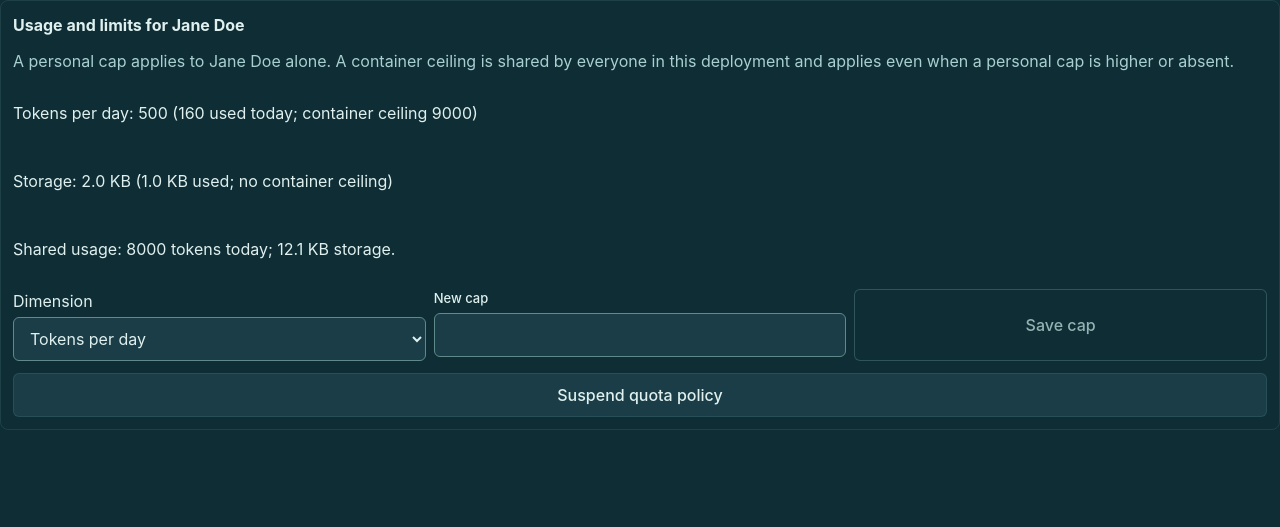
QuotaEditor › exposes suspension and a restore action rather than reporting no cap
Expected: the text "Tokens per day: 500 (160 used today; container ceiling 9000)" is shown, [13,103,478,123]
Click the button "Suspend quota policy". click: (640, 395)
box: [13,373,1267,417]
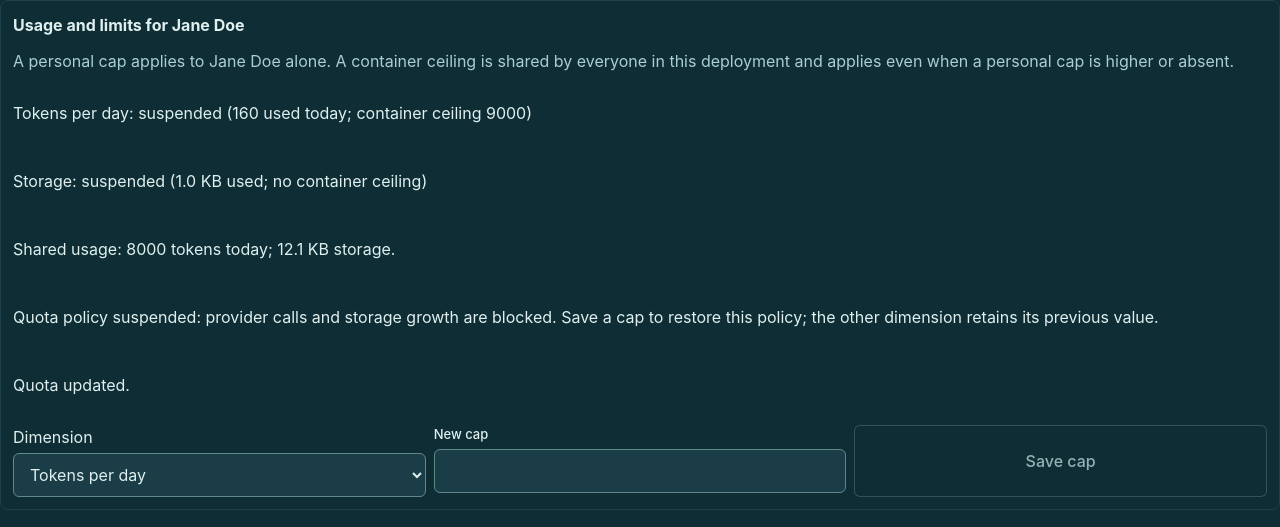
Result: the text "Quota policy suspended: provider calls" is shown at [13,307,1159,327]
Result: the text "Tokens per day: suspended" is shown at [13,103,532,123]
Result: the button "Suspend quota policy" is gone
